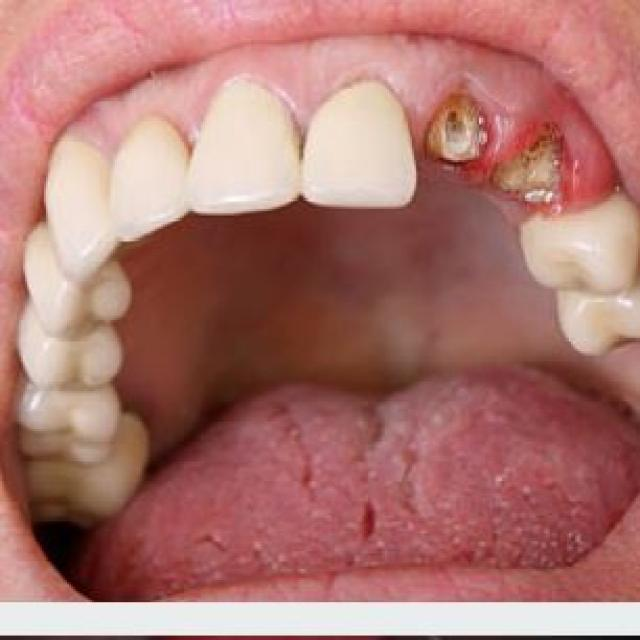caries: (502, 106, 578, 215), (423, 80, 499, 182)
